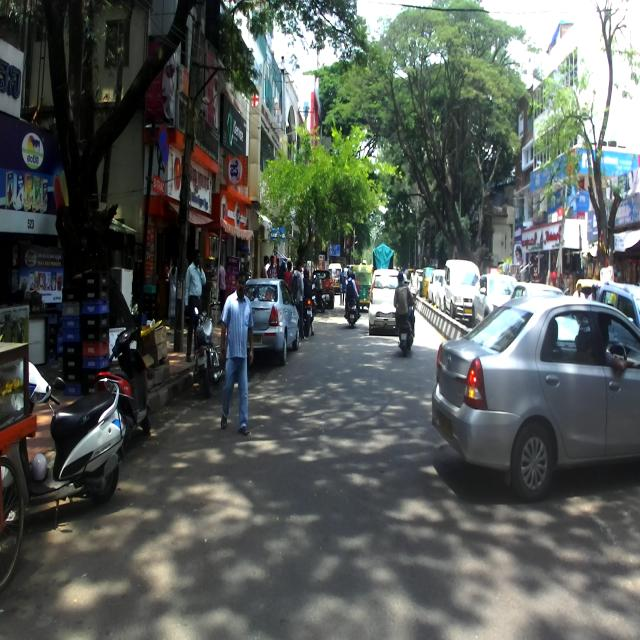electric pole ahead at: (436, 287, 640, 507)
motorcycle ahead at: (25, 366, 125, 506), (188, 295, 218, 398), (391, 267, 418, 361)
person ahead at: (219, 269, 255, 435)
